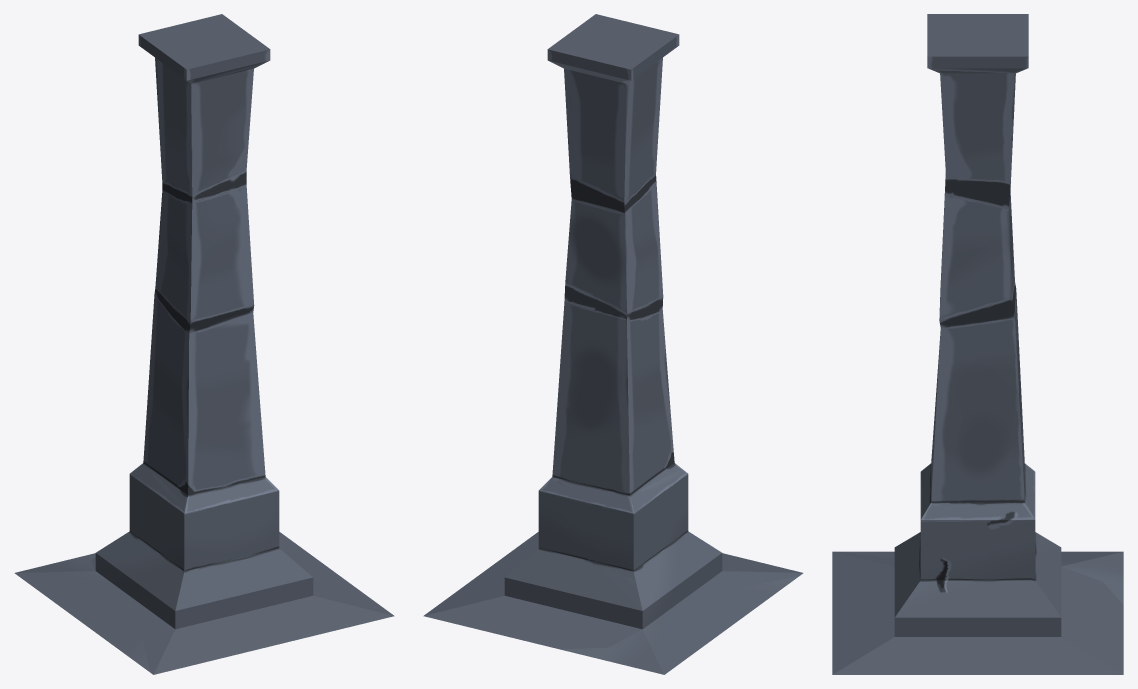
File: studtest.fbx
3 renders of one model, left to right at view 1: azimuth 30°, elevation 25°; view 2: azimuth 150°, elevation 25°; view 3: azimuth 270°, elevation 25°, orthographic. The views are drawn at different scales.
Visible parts, largest first — view 1: Cube; view 2: Cube; view 3: Cube.
Part boxes in pixels (x1,y1,x2,y2): Cube: [14, 14, 394, 674]; Cube: [423, 14, 803, 674]; Cube: [832, 14, 1123, 674].
Size of the model in its own units: 421 by 922 by 421.
